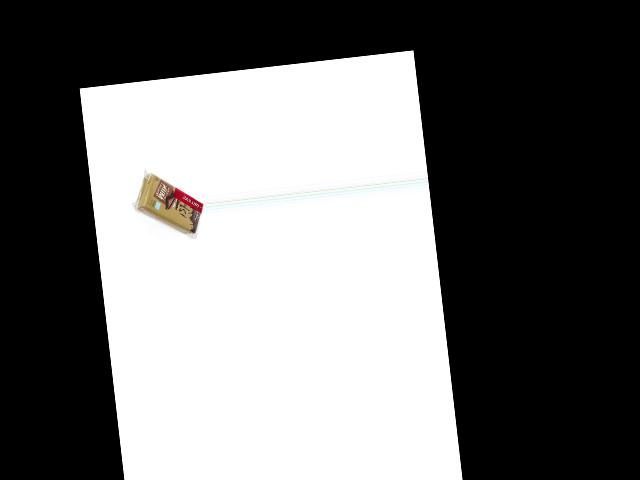chocolate: (130, 160, 205, 241)
